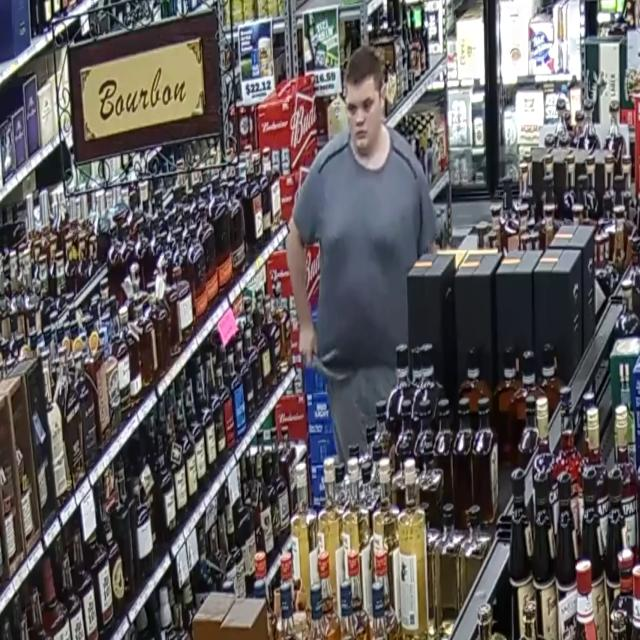normal: (250, 0, 469, 456)
